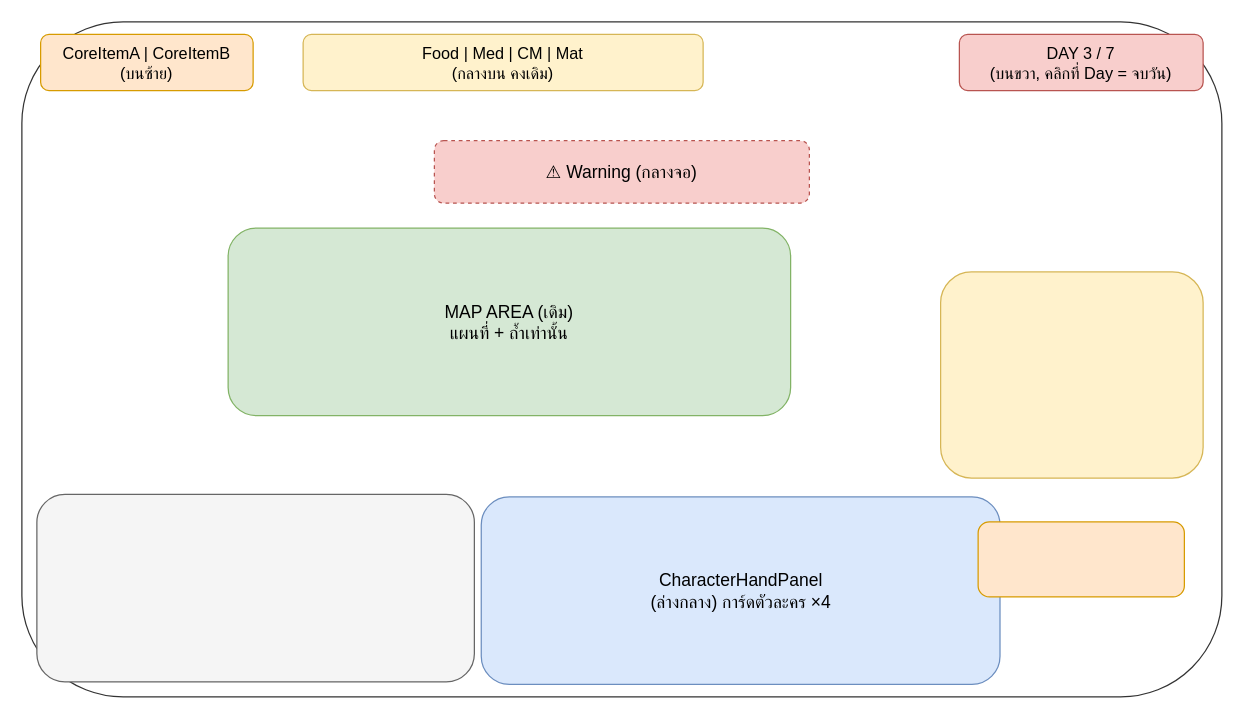
Image size: 1244x719. Some labels were removed from this diagram. Here are the shapes that lost their labels. From the top down, the centre of each, then its label:
At point (1071, 374): "SkillTriggerPanel Cook [2] Heal [MED] Craft [1]".
At point (1080, 559): "DISPATCH (ขวา/ล่างขวา)".
At point (255, 587): "LogPanel [–] บรรทัดล่าสุด (ล่างซ้าย ห้ามสูง ล้ำเข้า MAP AREA)".
